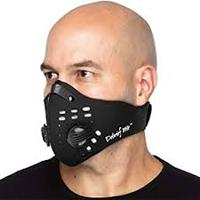flu mask: (42, 81, 132, 169)
